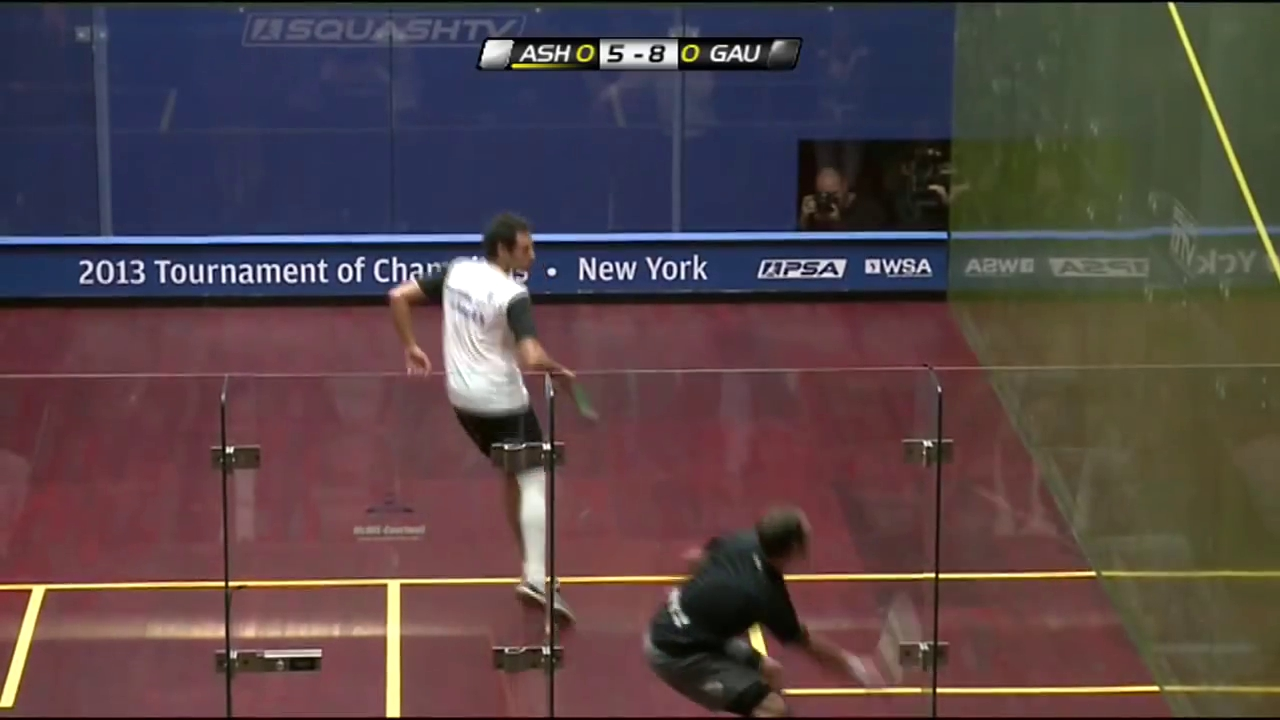person: (387, 210, 600, 628), (642, 506, 870, 717)
